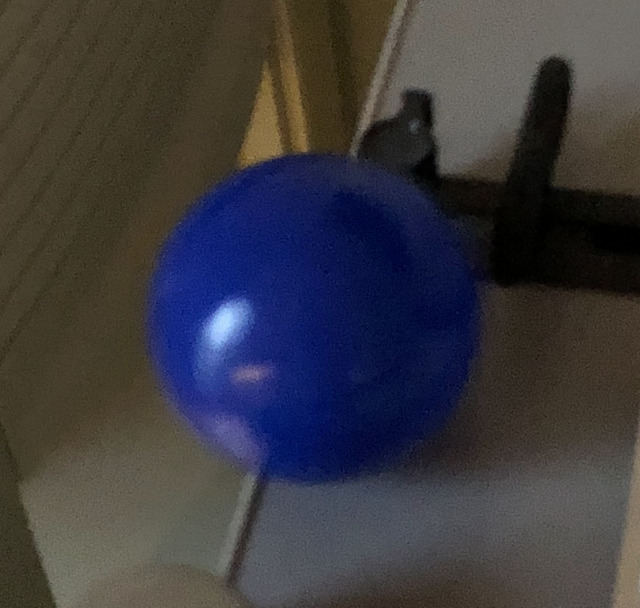Ball: (150, 155, 477, 484)
